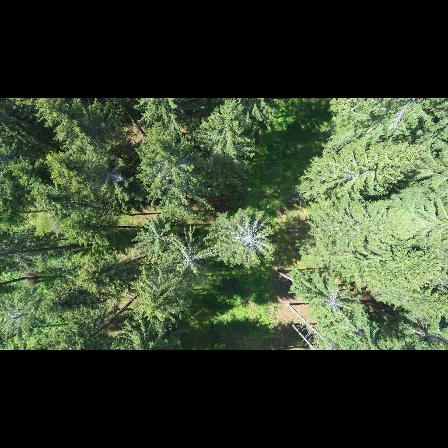Sick: (221, 208, 276, 266), (161, 237, 222, 286), (92, 157, 131, 196), (319, 288, 349, 322)
